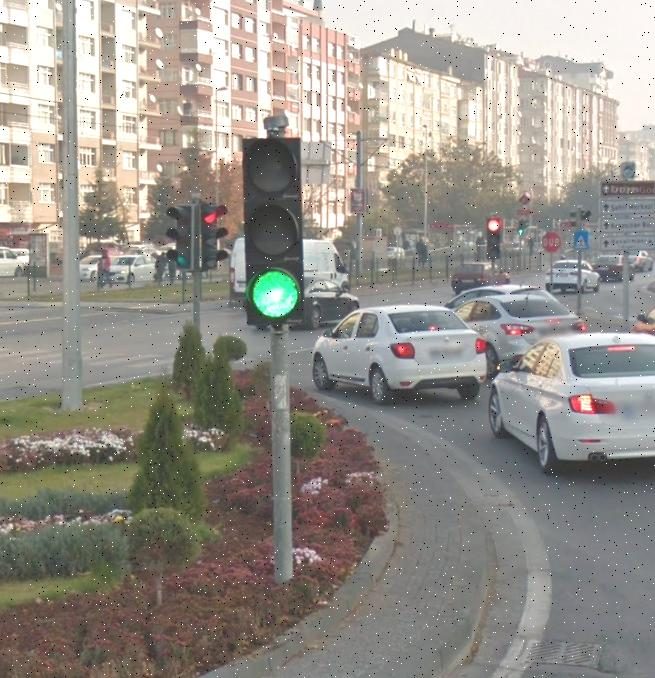greenlight: (241, 137, 304, 325), (518, 218, 526, 236)
redlight: (188, 198, 221, 281), (483, 215, 503, 261)
stop: (541, 232, 562, 253)
